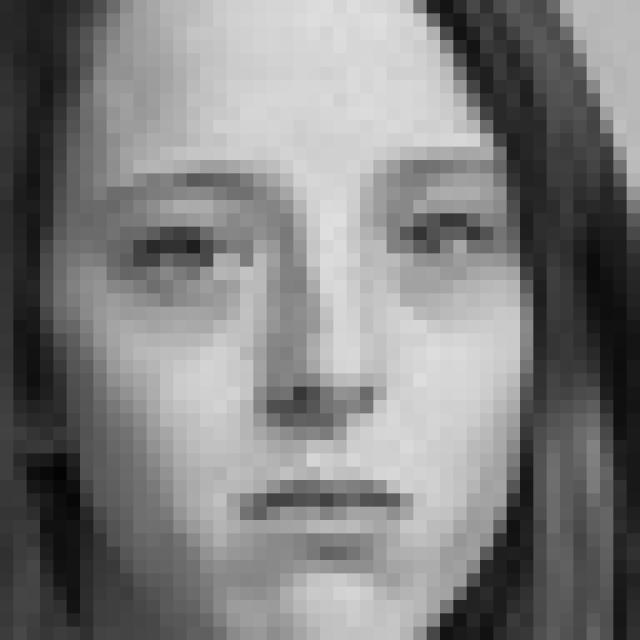neutral: (96, 142, 510, 575)
